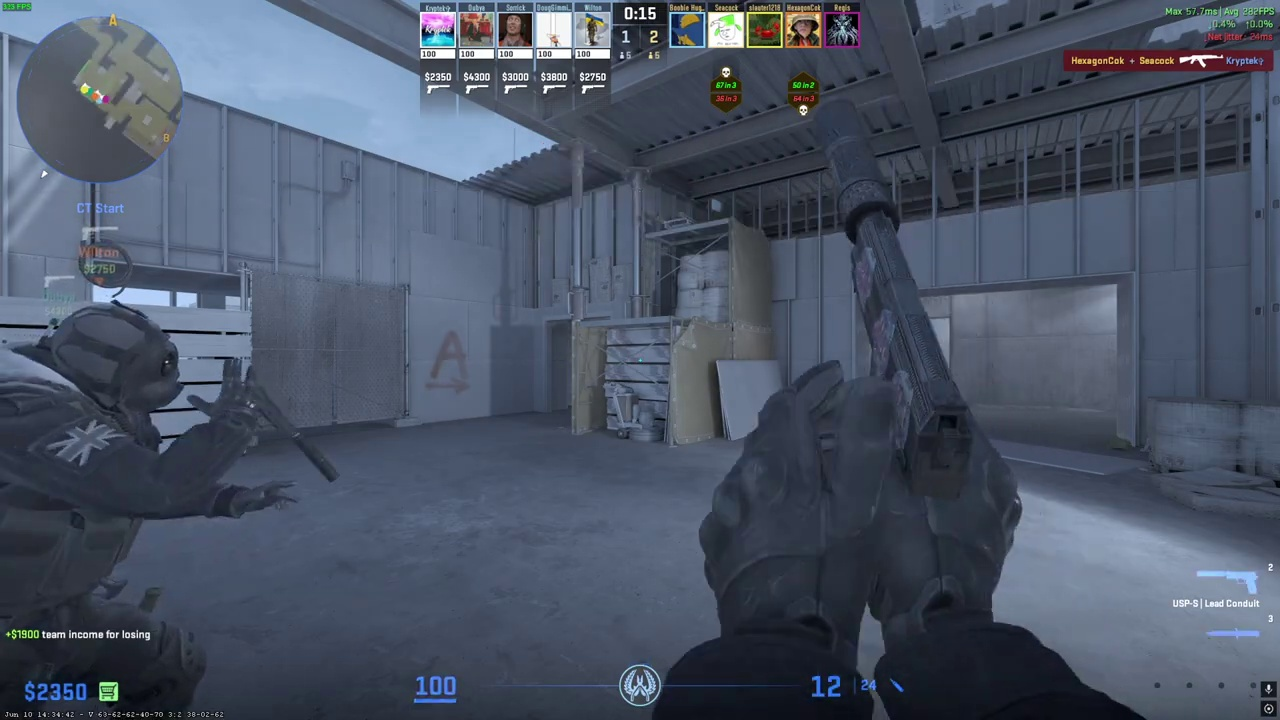CT: (0, 301, 208, 720)
